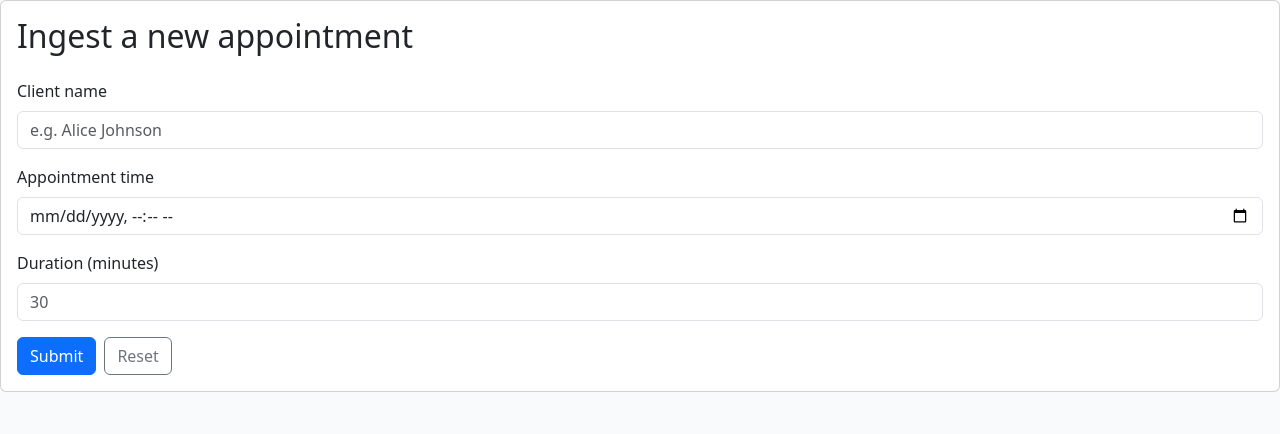
IngestAppointmentForm › GIVEN invalid duration WHEN submit THEN show duration error and skip ingest
Type "Casey Freeform" into the field labelled "Client name".
click(640, 130); type("Casey Freeform")  # box [17,111,1263,149]
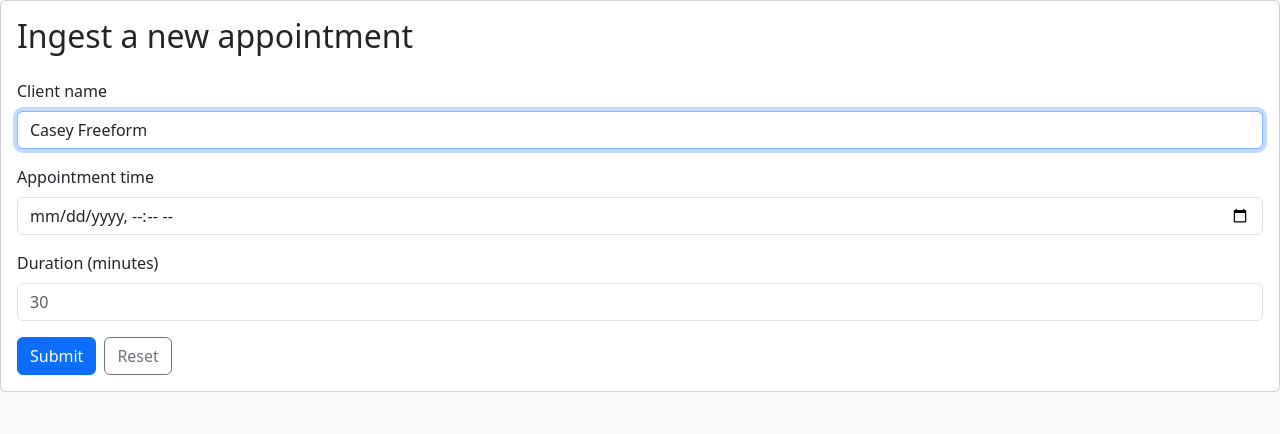
Type "2025-02-01T14:30" into the field labelled "Appointment time".
click(640, 216); type("2025-02-01T14:30")  # box [17,197,1263,235]
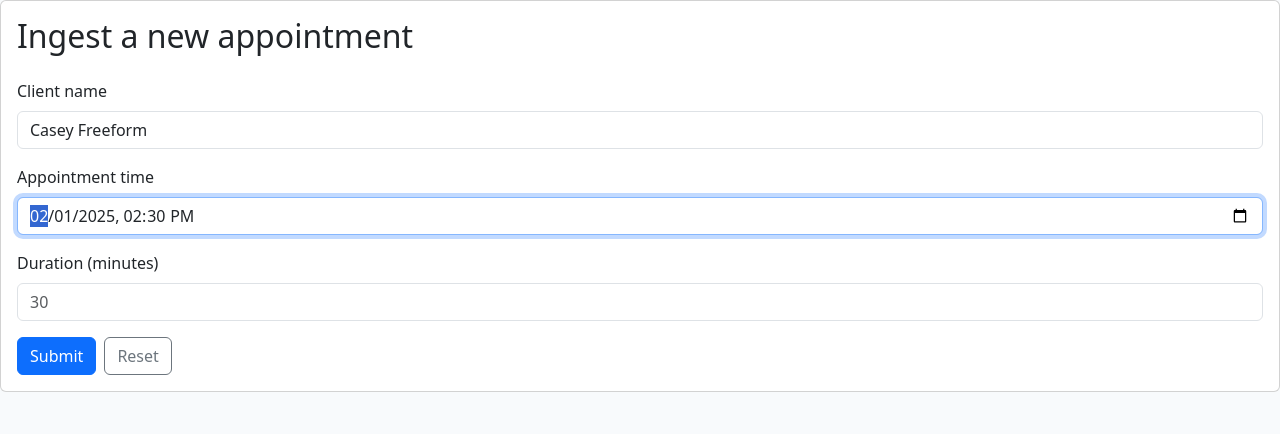
Type "e" into the field labelled "Duration (minutes)".
click(640, 302); type("e")  # box [17,283,1263,321]
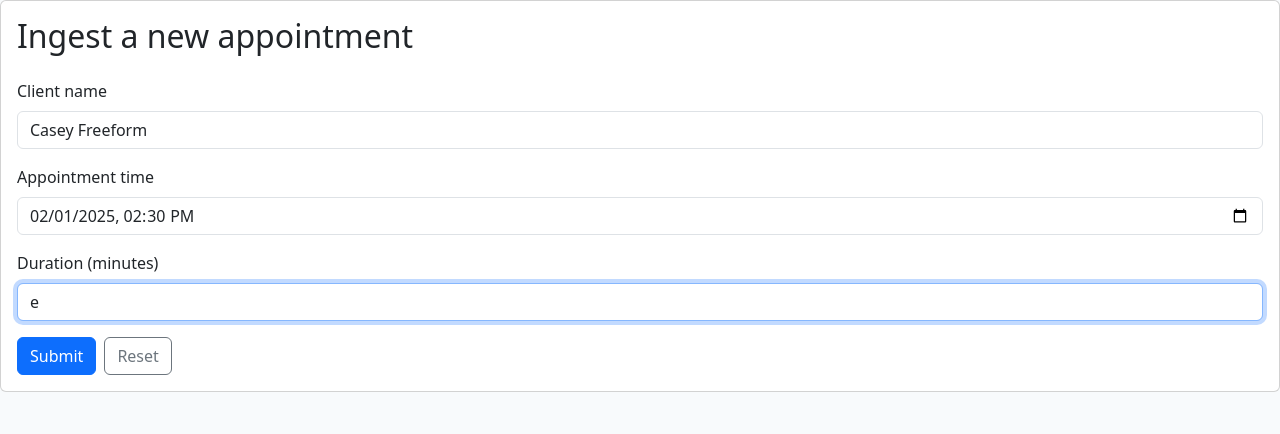
Click the button "Submit".
click(57, 356)  # box [17,337,96,375]
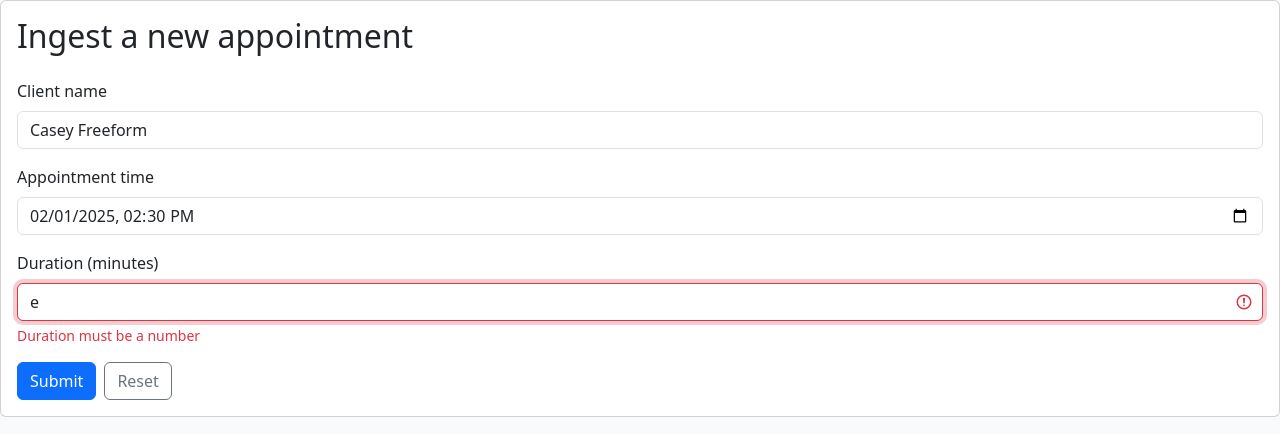
Expected: the text "Duration must be a number" is shown, [17,326,200,345]
